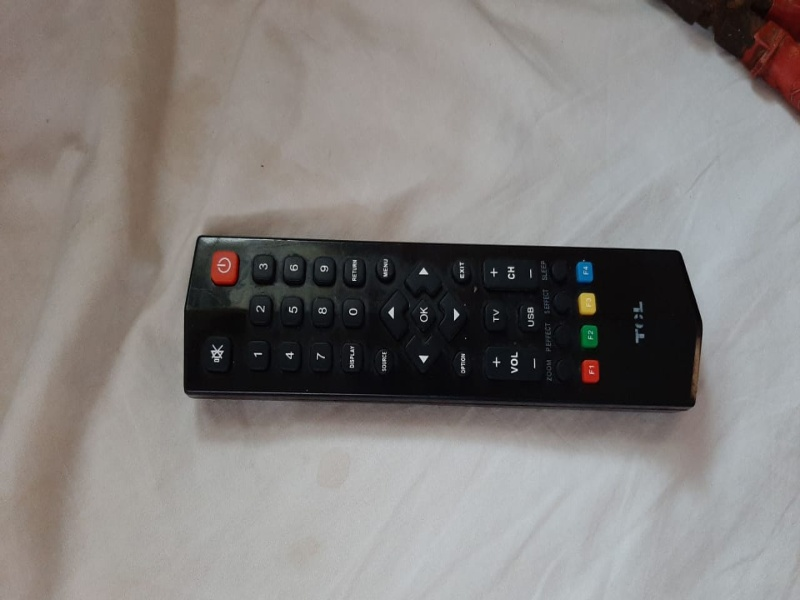remote: (182, 222, 704, 412)
